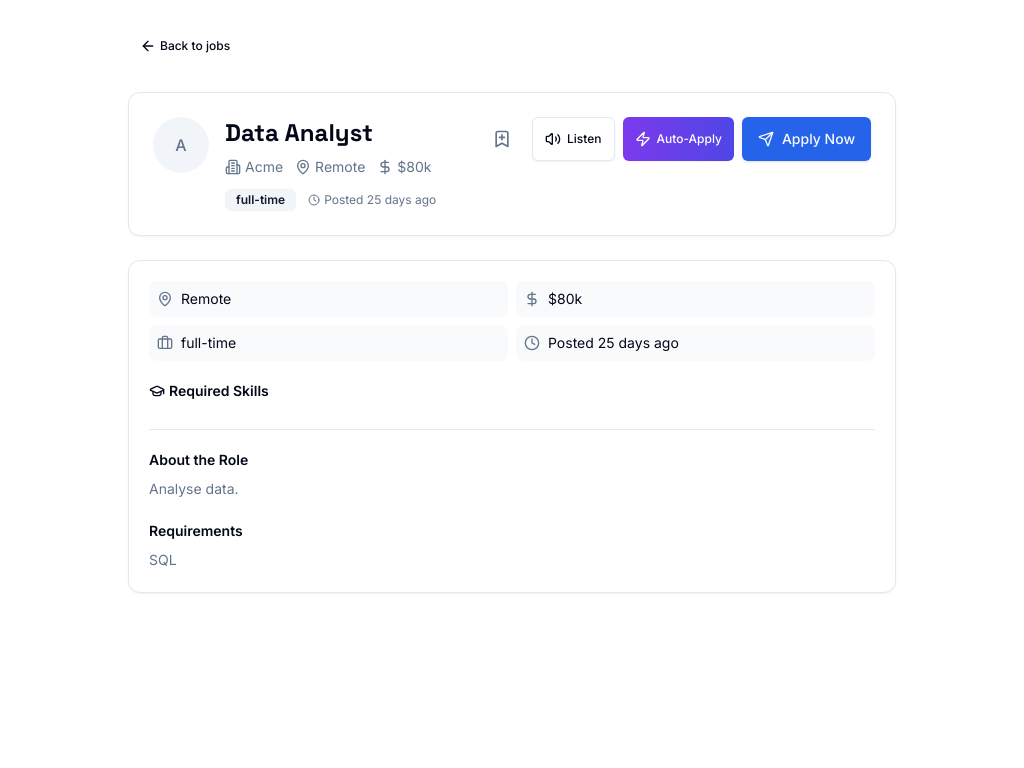
Scenario: #1601 job-detail profile completion (JT-P1–P3) › JT-P1: completed profile (100%) — no 0% banner, one-click apply opens
Click the button "Apply Now" at (806, 139), box [742,117,871,161]
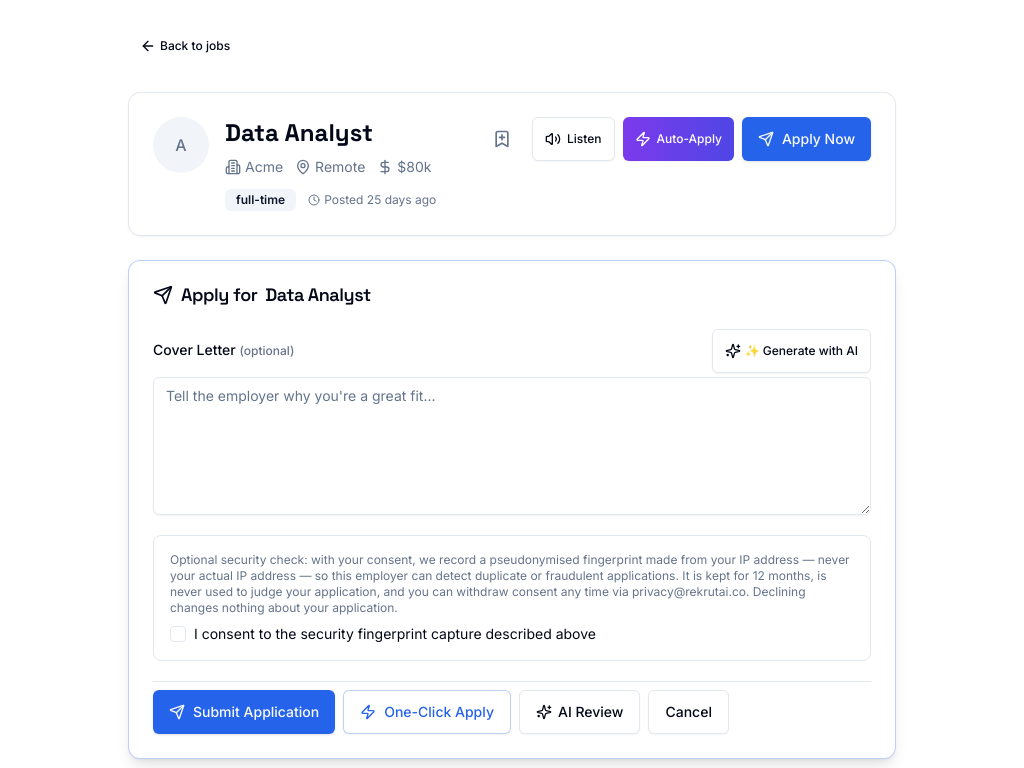
Expected: the button "One-Click Apply" is shown, [343,690,511,734]
